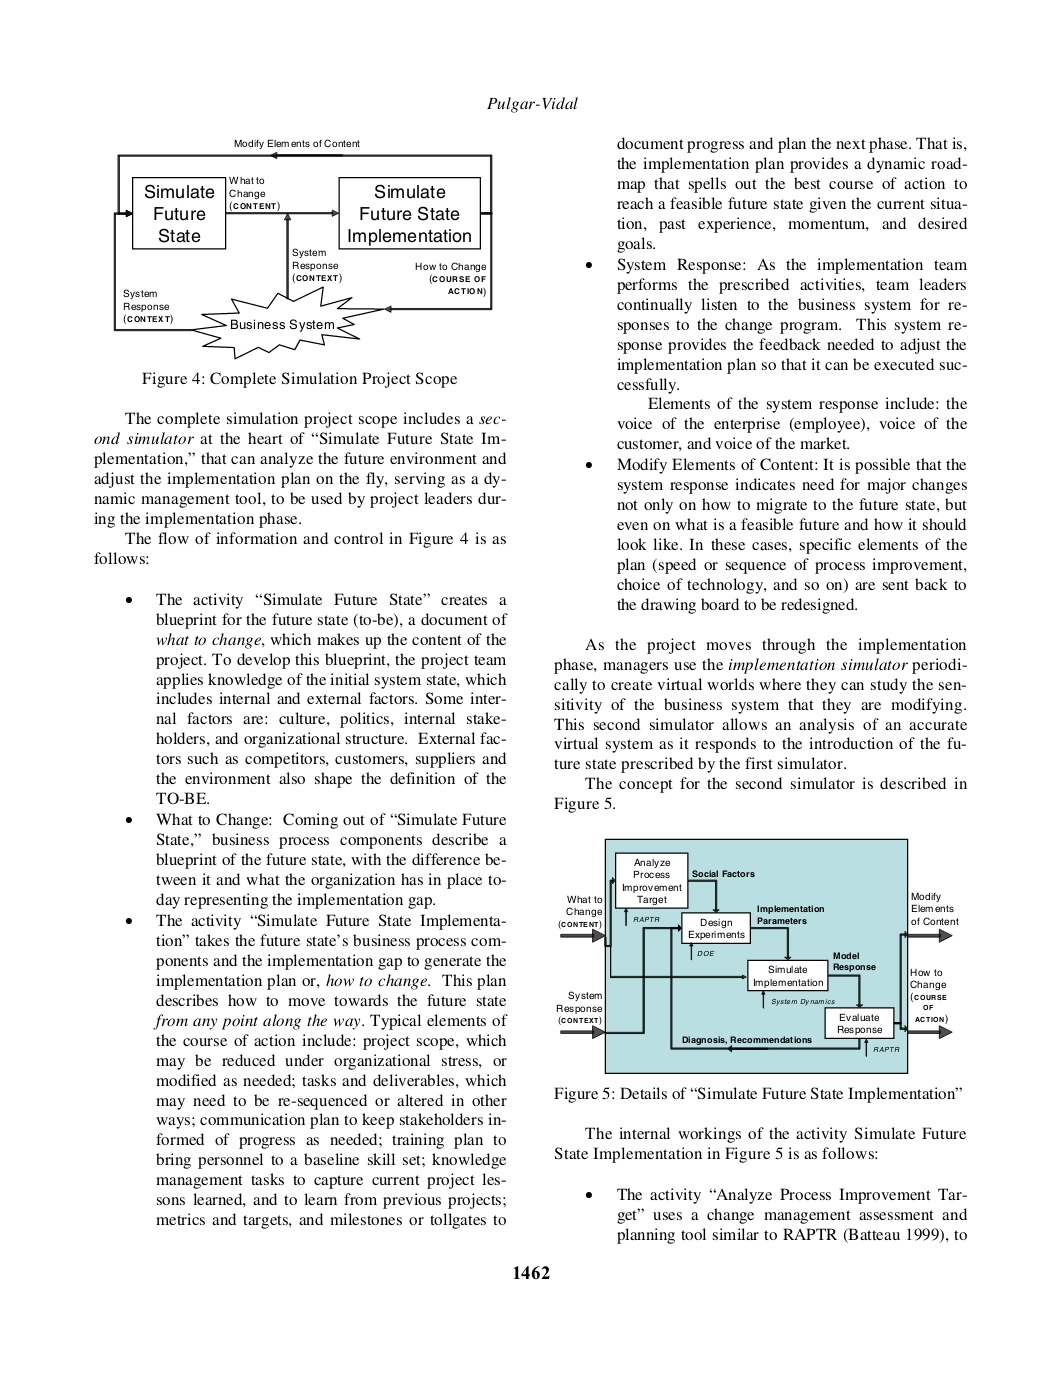figure: (556, 837, 958, 1074), (113, 138, 491, 360)
